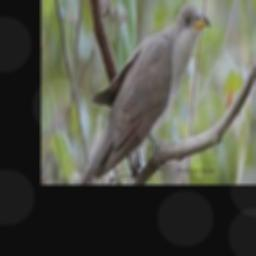Cuckoo: (78, 2, 210, 185)
